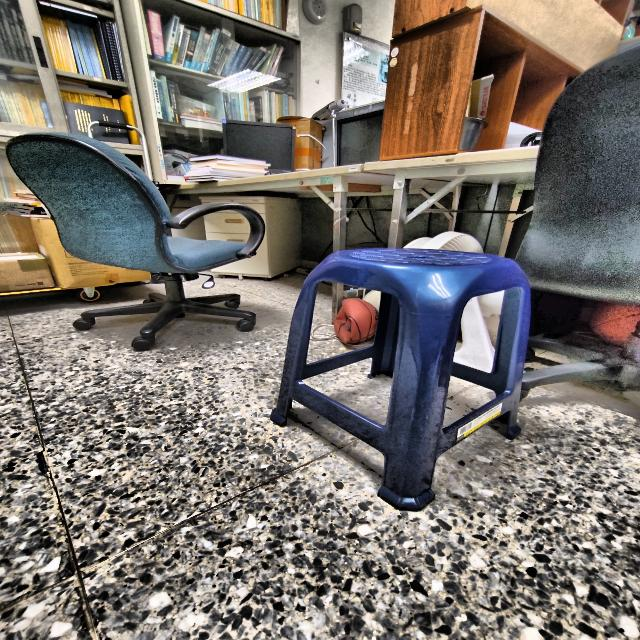cadeira: (267, 232, 529, 518), (0, 123, 268, 357)
